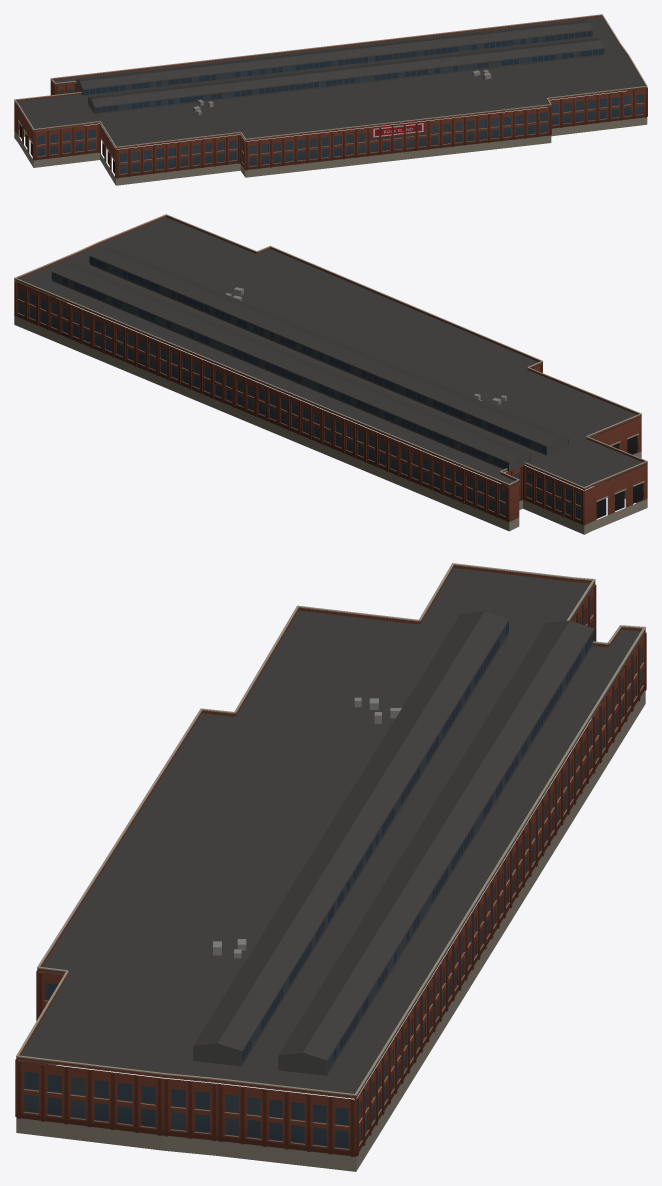
The model's file is shop.glb.
3 views of the same model, one above another, from view 1: azimuth 30°, elevation 25°; view 2: azimuth 150°, elevation 25°; view 3: azimuth 270°, elevation 25° (orthographic). The views are drawn at different scales.
Parts seen in each view (by area): view 1: shop_lod0; view 2: shop_lod0; view 3: shop_lod0.
Boxes of the visible parts, left/top/right/bottom form: shop_lod0: left=14, top=14, right=647, bottom=185; shop_lod0: left=14, top=214, right=647, bottom=534; shop_lod0: left=15, top=563, right=646, bottom=1171.
Size of what is drawn, in the model's own units: 300 by 24.6 by 151.
